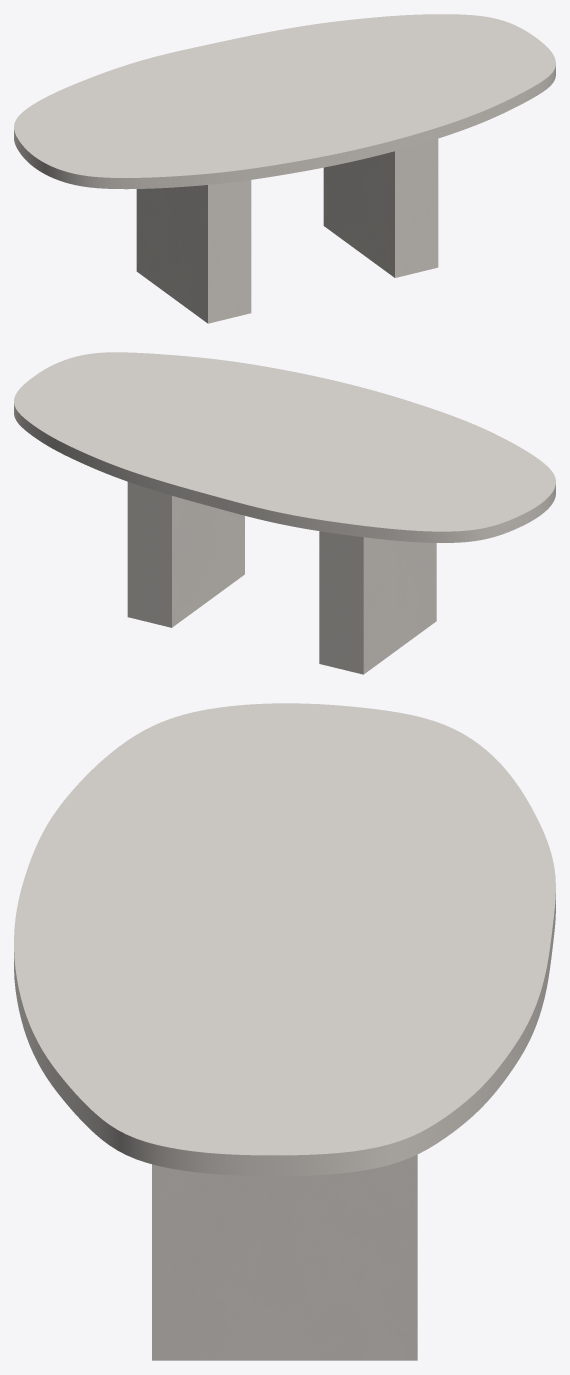
Rendered from pearlwhite_danish_standard_ridge.glb.
The picture shows the model from 3 angles, top to bottom: view 1: azimuth 30°, elevation 25°; view 2: azimuth 150°, elevation 25°; view 3: azimuth 270°, elevation 25°; orthographic projection. The views are drawn at different scales.
Visible parts, largest first — view 1: standard_danish, ridge; view 2: standard_danish, ridge; view 3: standard_danish, ridge.
Boxes of the visible parts, x1=… form: standard_danish: x1=14, y1=14, x2=555, y2=189; ridge: x1=136, y1=138, x2=438, y2=323; standard_danish: x1=14, y1=352, x2=555, y2=542; ridge: x1=127, y1=482, x2=436, y2=674; standard_danish: x1=14, y1=703, x2=555, y2=1175; ridge: x1=152, y1=1154, x2=417, y2=1360.
Size of the model in its own units: 7.5 by 2.5 by 3.8.
Materials: 1 (1 with a texture image).
